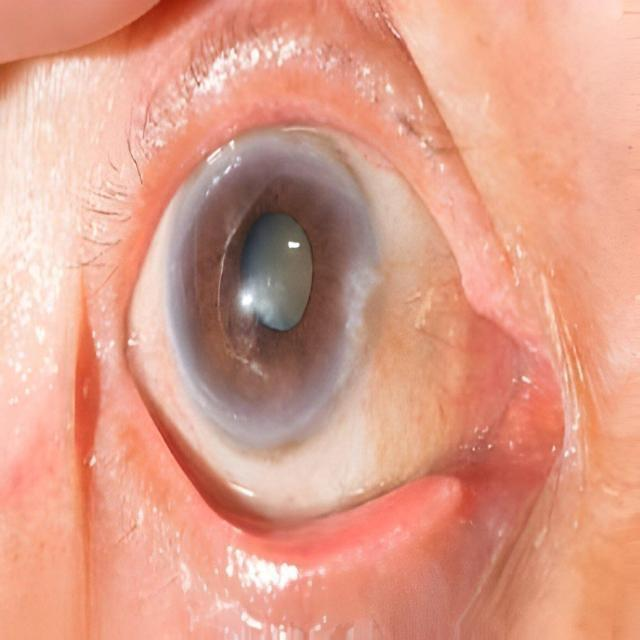Cataract: (160, 123, 374, 470)
